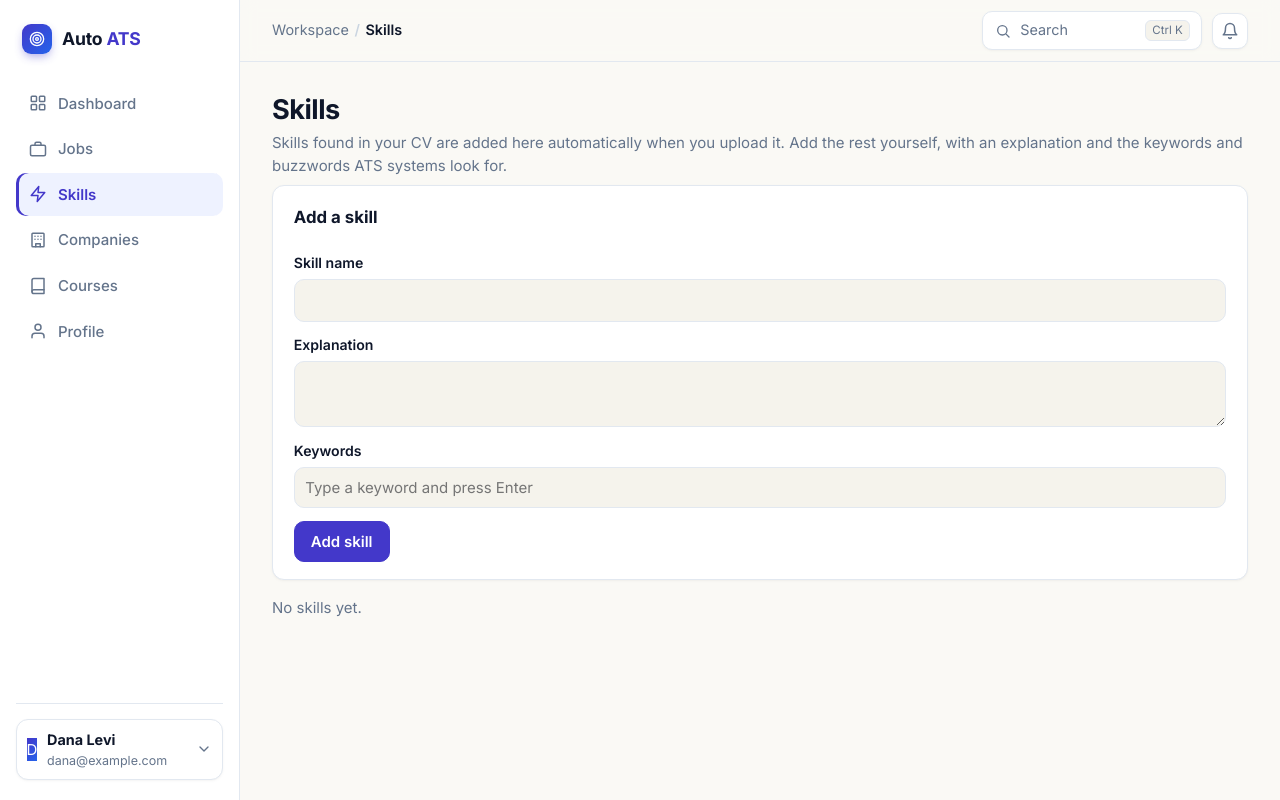
Test: SkillsPage › GivenBlankName_WhenAdding_ThenErrorIsShownAndNothingIsSent
Expected: the text "No skills yet." is shown, [272,598,362,618]
Click the button "Add skill". click: (342, 541)
box: [294,521,390,562]
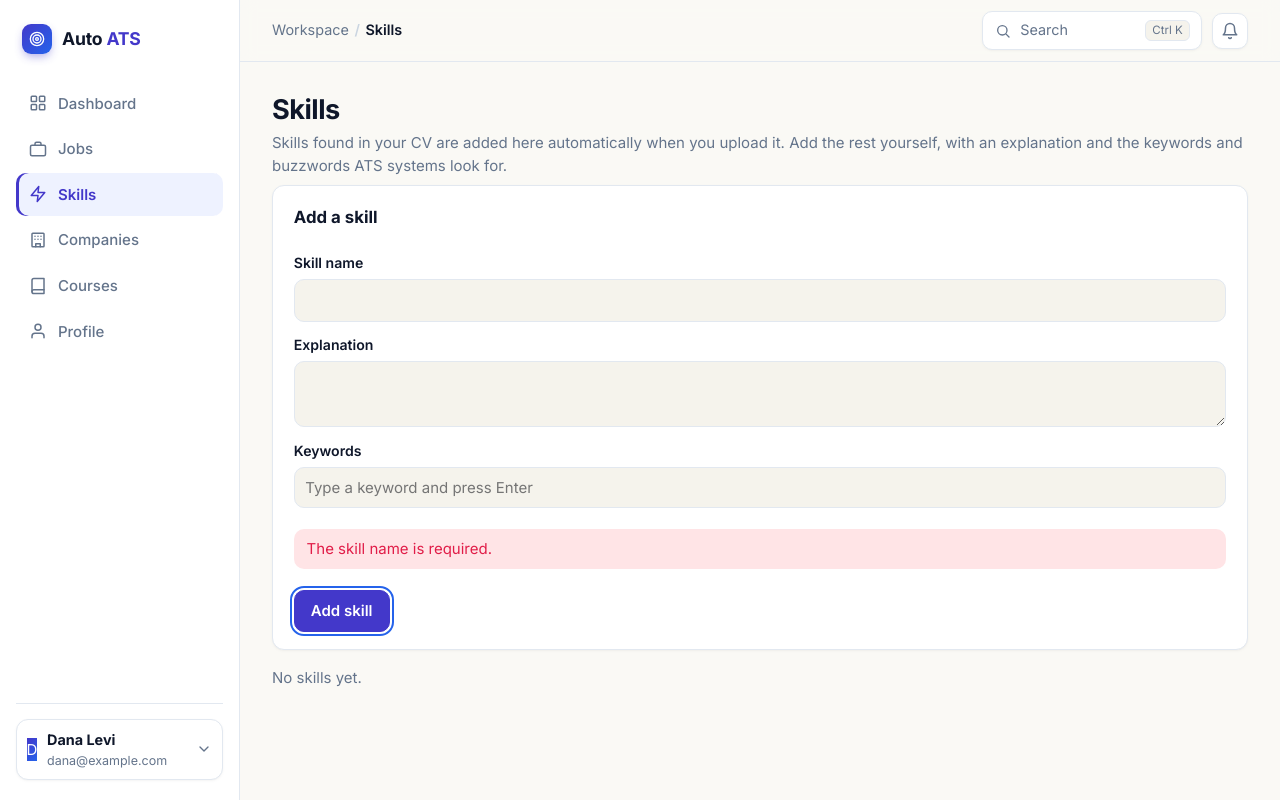
Result: the message reads "The skill name is required." at [307,539,492,558]
